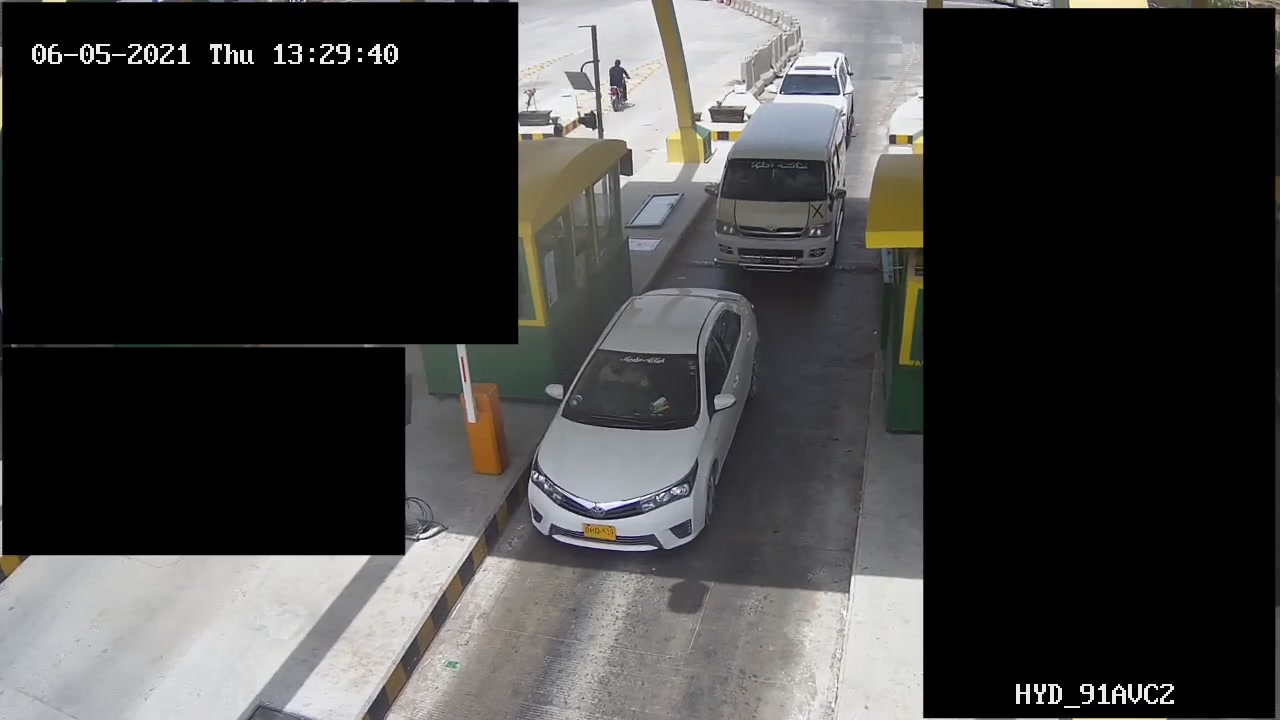F1: (521, 285, 767, 557)
F2: (703, 104, 854, 279)
